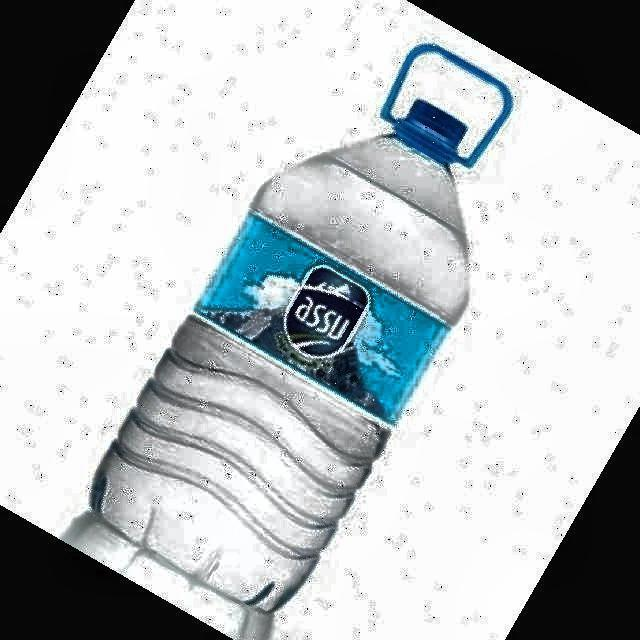plastic: (95, 46, 511, 611)
